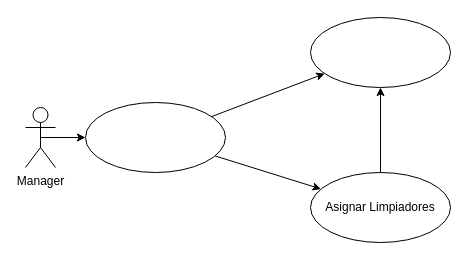
Image size: 468x260. Some labels were removed from this diagram. The centre of each missing label's shape, as x and y in pixels:
"Asignar Habitaciones" goes at pixel 380 52.
"Mirar Habitaciones Disponibles" goes at pixel 155 137.
